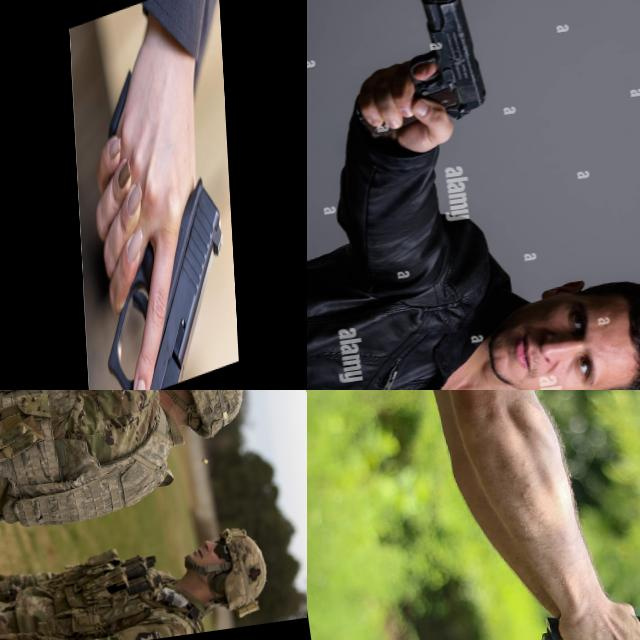handgun: (76, 35, 229, 390), (336, 0, 493, 149), (119, 390, 158, 408)
